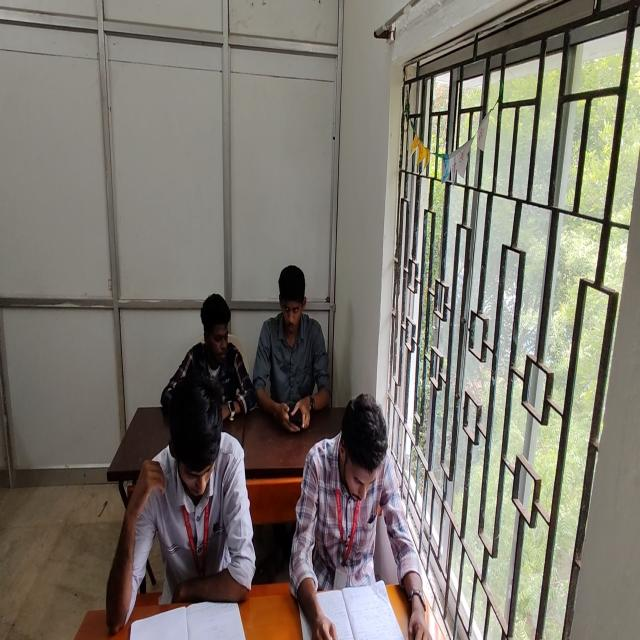reading: (108, 373, 256, 633), (288, 393, 409, 640)
using_mobile: (160, 291, 256, 424), (252, 266, 328, 431)
